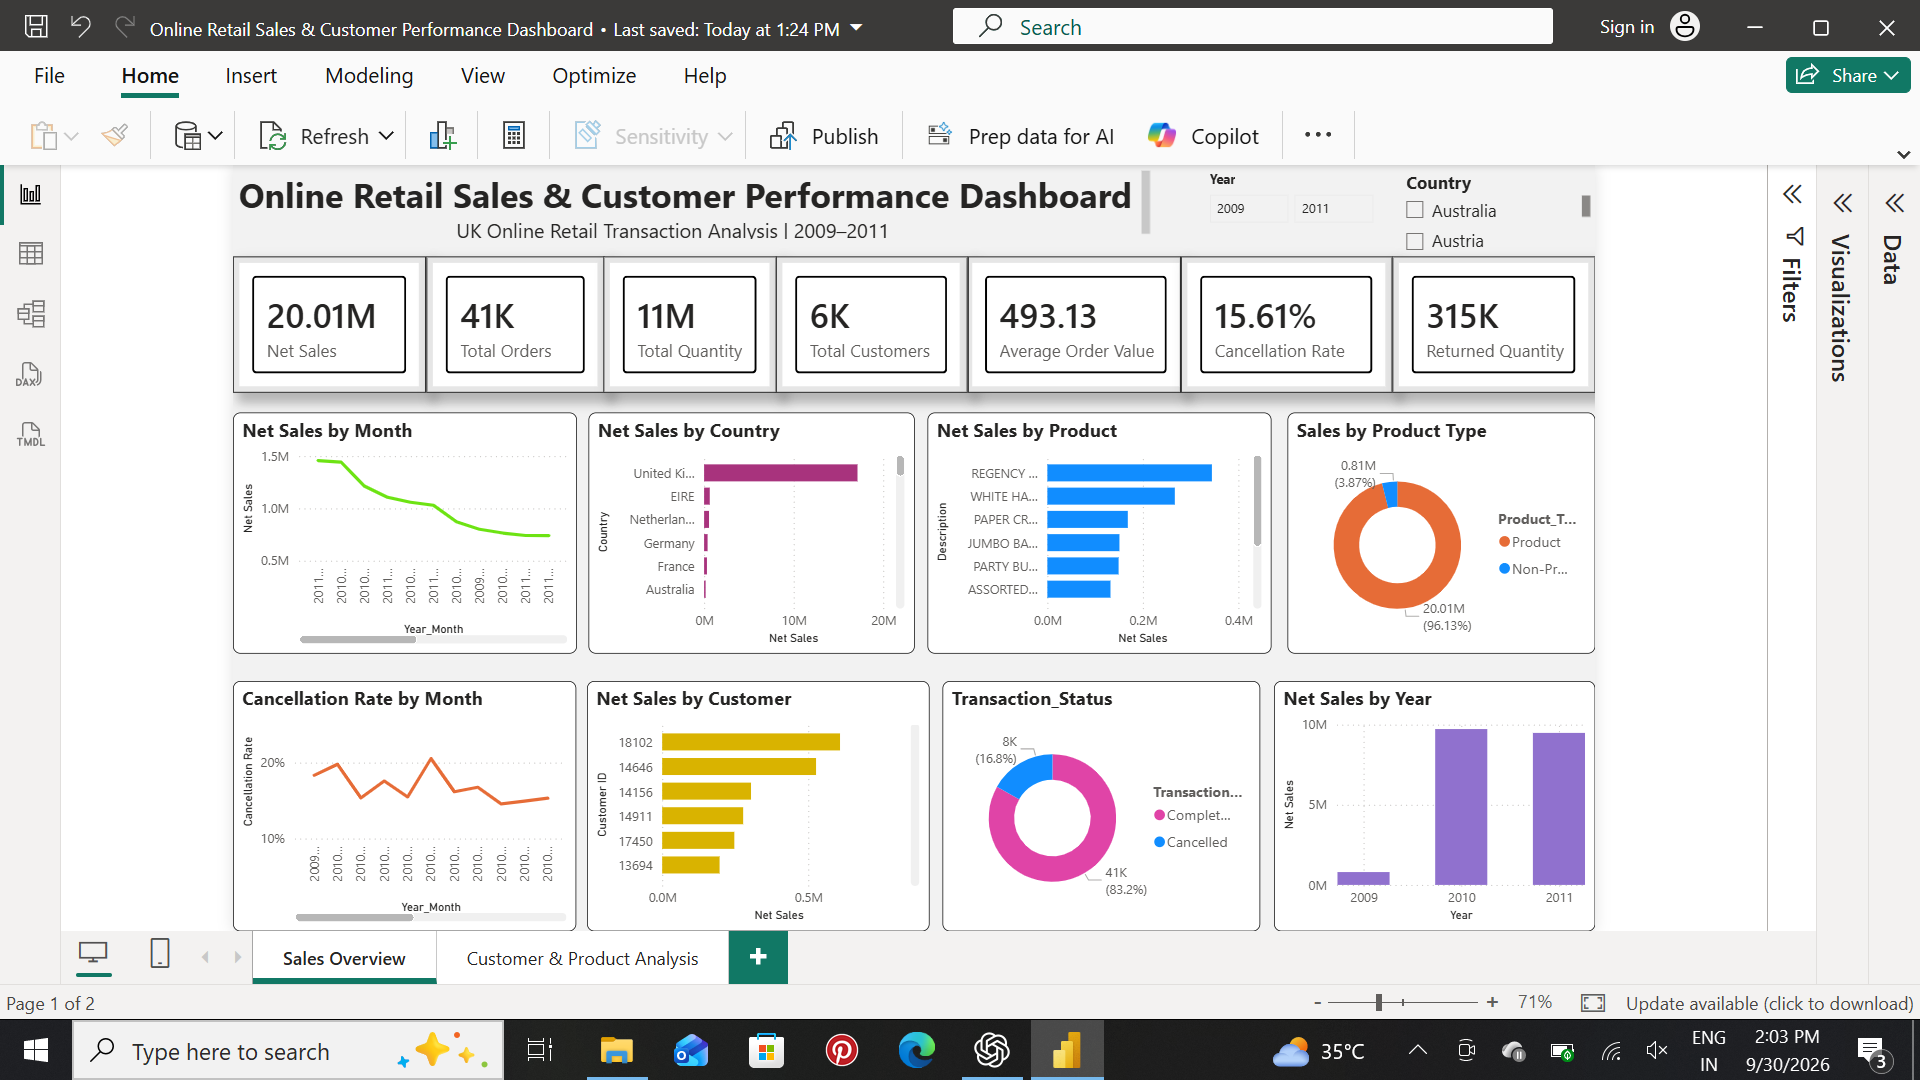

The dashboard page shown, as its layout file describes it:
{"tool":"powerbi","page":{"name":"Sales Overview","canvas":[1280,720],"ordinal":0},"visuals":[{"type":"cardVisual","fields":{"Data":["Online_Retail.Net Sales"]},"box":[0,86,181.3,128.2],"z":0},{"type":"cardVisual","fields":{"Data":["Online_Retail.Total Orders"]},"box":[181.3,86,167.2,128.2],"z":1000},{"type":"cardVisual","fields":{"Data":["Online_Retail.Total Quantity"]},"box":[348.5,86,162.6,128.2],"z":2000},{"type":"cardVisual","fields":{"Data":["Online_Retail.Total Customers"]},"box":[511.1,86,179.7,128.2],"z":3000},{"type":"cardVisual","fields":{"Data":["Online_Retail.Average Order Value"]},"box":[690.8,86,200.1,128.2],"z":4000},{"type":"cardVisual","fields":{"Data":["Online_Retail.Cancellation Rate"]},"box":[890.9,86,198.5,128.2],"z":5000},{"type":"lineChart","title":"Net Sales by Month","fields":{"Category":["Online_Retail.Year_Month"],"Y":["Online_Retail.Net Sales"]},"box":[0,232.9,323.5,226.6],"z":6000},{"type":"clusteredBarChart","fields":{"Category":["Online_Retail.Country"],"Y":["Online_Retail.Net Sales"]},"box":[334.5,232.9,306.3,226.6],"z":7000},{"type":"clusteredBarChart","title":"Net Sales by Product","fields":{"Category":["Online_Retail.Description"],"Y":["Online_Retail.Net Sales"]},"box":[653.3,232.9,323.5,226.6],"z":8000},{"type":"lineChart","title":"Cancellation Rate by Month","fields":{"Category":["Online_Retail.Year_Month"],"Y":["Online_Retail.Cancellation Rate"]},"box":[0,485.1,322.9,235.4],"z":9000},{"type":"clusteredBarChart","title":"Net Sales by Customer ","fields":{"Category":["Online_Retail.Customer ID"],"Y":["Online_Retail.Net Sales"]},"box":[333.3,485,321.7,235],"z":10000},{"type":"slicer","fields":{"Values":["Online_Retail.Year"]},"box":[905,0,171.9,86],"z":11000},{"type":"slicer","fields":{"Values":["Online_Retail.Country"]},"box":[1089.4,0,190.7,86],"z":12000},{"type":"textbox","box":[0,0,866.7,73.3],"z":13000},{"type":"cardVisual","fields":{"Data":["Online_Retail.Returned Quantity"]},"box":[1089.4,86,190.7,128.2],"z":14000},{"type":"donutChart","title":"Transaction_Status","fields":{"Category":["Online_Retail.Transaction_Status"],"Y":["Online_Retail.Transactions by Status"]},"box":[666.7,485,298.3,235],"z":15000},{"type":"clusteredColumnChart","fields":{"Category":["Online_Retail.Year"],"Y":["Online_Retail.Net Sales"]},"box":[978.3,485,301.7,235],"z":16000},{"type":"donutChart","title":"Sales by Product Type","fields":{"Category":["Online_Retail.Product_Type"],"Y":["Online_Retail.Sales Amount by Status"]},"box":[990.9,232.9,289.2,226.6],"z":17000}]}

Visuals, with their boxes on the page's 1280x720 design canvas (x1, y1, x2, y2). These are canvas units, not pixel positions in the 1920x1080 screenshot, which may show the page scaled, cropped or inside an application window:
cardVisual - Online_Retail.Net Sales: [0, 86, 181, 214]
cardVisual - Online_Retail.Total Orders: [181, 86, 348, 214]
cardVisual - Online_Retail.Total Quantity: [348, 86, 511, 214]
cardVisual - Online_Retail.Total Customers: [511, 86, 691, 214]
cardVisual - Online_Retail.Average Order Value: [691, 86, 891, 214]
cardVisual - Online_Retail.Cancellation Rate: [891, 86, 1089, 214]
"Net Sales by Month" lineChart: [0, 233, 324, 460]
clusteredBarChart - Online_Retail.Country x Online_Retail.Net Sales: [334, 233, 641, 460]
"Net Sales by Product" clusteredBarChart: [653, 233, 977, 460]
"Cancellation Rate by Month" lineChart: [0, 485, 323, 720]
"Net Sales by Customer " clusteredBarChart: [333, 485, 655, 720]
slicer - Online_Retail.Year: [905, 0, 1077, 86]
slicer - Online_Retail.Country: [1089, 0, 1280, 86]
textbox: [0, 0, 867, 73]
cardVisual - Online_Retail.Returned Quantity: [1089, 86, 1280, 214]
"Transaction_Status" donutChart: [667, 485, 965, 720]
clusteredColumnChart - Online_Retail.Year x Online_Retail.Net Sales: [978, 485, 1280, 720]
"Sales by Product Type" donutChart: [991, 233, 1280, 460]
